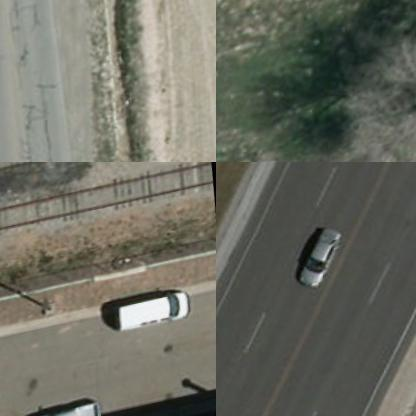car: (291, 226, 353, 295), (26, 399, 111, 415)
van: (113, 292, 194, 339)
